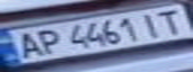1: (115, 13, 145, 42)
4: (63, 20, 90, 51), (84, 19, 106, 48)
6: (100, 16, 127, 46)
A: (6, 29, 48, 61)
I: (133, 10, 169, 38)
P: (30, 26, 66, 56)
T: (151, 6, 193, 35)
